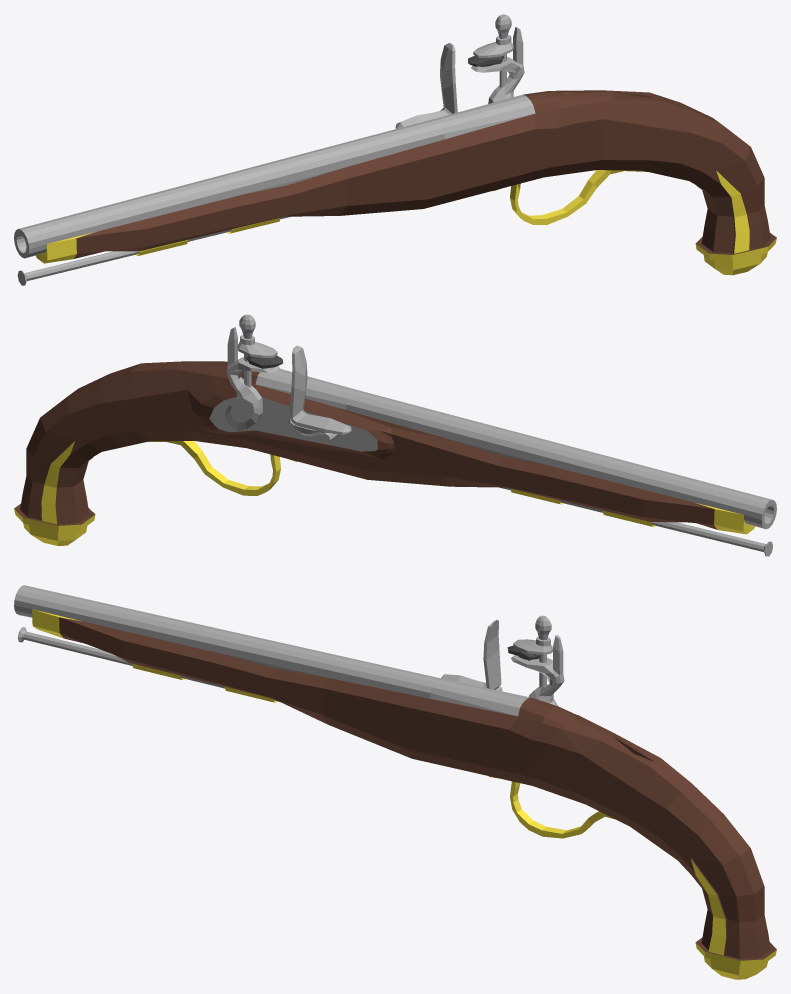
File: Flintlock.fbx
The picture shows the model from 3 angles, top to bottom: view 1: azimuth 30°, elevation 25°; view 2: azimuth 150°, elevation 25°; view 3: azimuth 330°, elevation 25°; orthographic projection.
Parts seen in each view (by area): view 1: Flintlock, Cock, Frizzen, RammingRod; view 2: Flintlock, Cock, Frizzen, RammingRod; view 3: Flintlock, Cock, Frizzen, RammingRod.
Boxes of the visible parts, x1=… form: Flintlock: x1=14, y1=90, x2=776, y2=275; Cock: x1=468, y1=14, x2=524, y2=103; Frizzen: x1=395, y1=43, x2=457, y2=128; RammingRod: x1=17, y1=216, x2=290, y2=285; Flintlock: x1=14, y1=361, x2=776, y2=545; Cock: x1=224, y1=314, x2=283, y2=430; Frizzen: x1=289, y1=345, x2=351, y2=434; RammingRod: x1=500, y1=487, x2=772, y2=556; Flintlock: x1=14, y1=585, x2=776, y2=979; Cock: x1=507, y1=615, x2=564, y2=706; Frizzen: x1=441, y1=619, x2=501, y2=689; RammingRod: x1=17, y1=627, x2=279, y2=701.
Bounding box in the file's own units: 0.0396 × 0.4035 × 0.1497.
